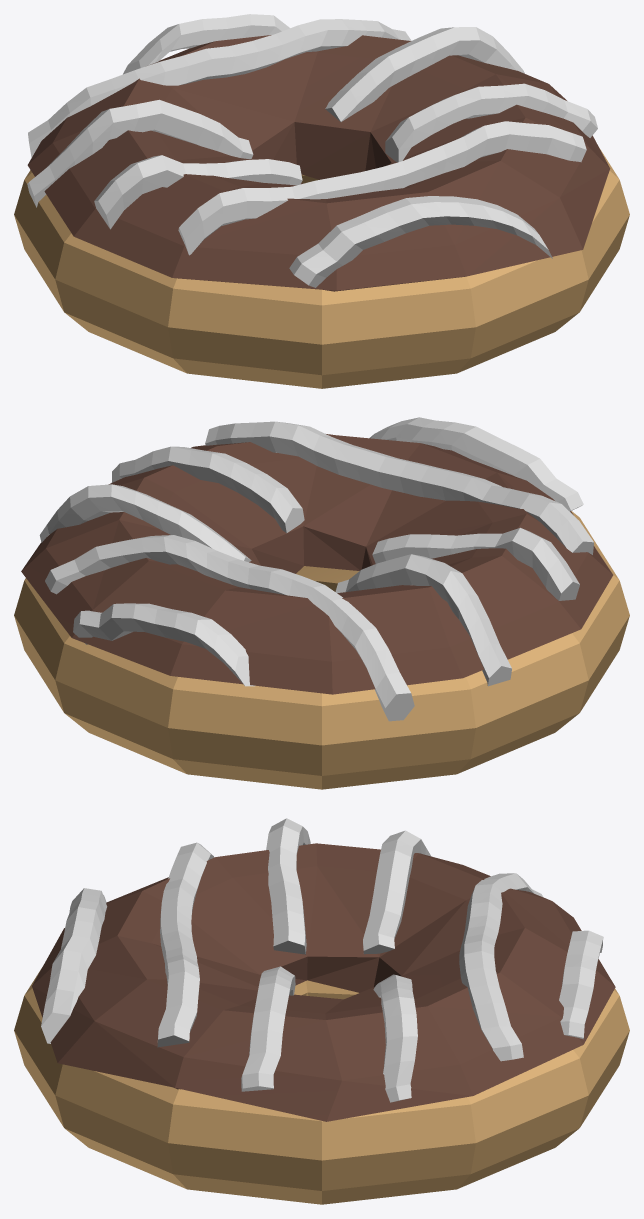
3 views of the same model, one above another, from view 1: azimuth 30°, elevation 25°; view 2: azimuth 150°, elevation 25°; view 3: azimuth 270°, elevation 25° (orthographic).
Visible parts, largest first — view 1: node_MeshObject-1576222208-PolyPaper18; view 2: node_MeshObject-1576222208-PolyPaper18; view 3: node_MeshObject-1576222208-PolyPaper18.
Part boxes in pixels (bbox=[...]): node_MeshObject-1576222208-PolyPaper18: bbox=[14, 14, 629, 388]; node_MeshObject-1576222208-PolyPaper18: bbox=[14, 417, 629, 789]; node_MeshObject-1576222208-PolyPaper18: bbox=[14, 818, 629, 1204].
Size of the model in its own units: 0.34 by 0.1148 by 0.34.
